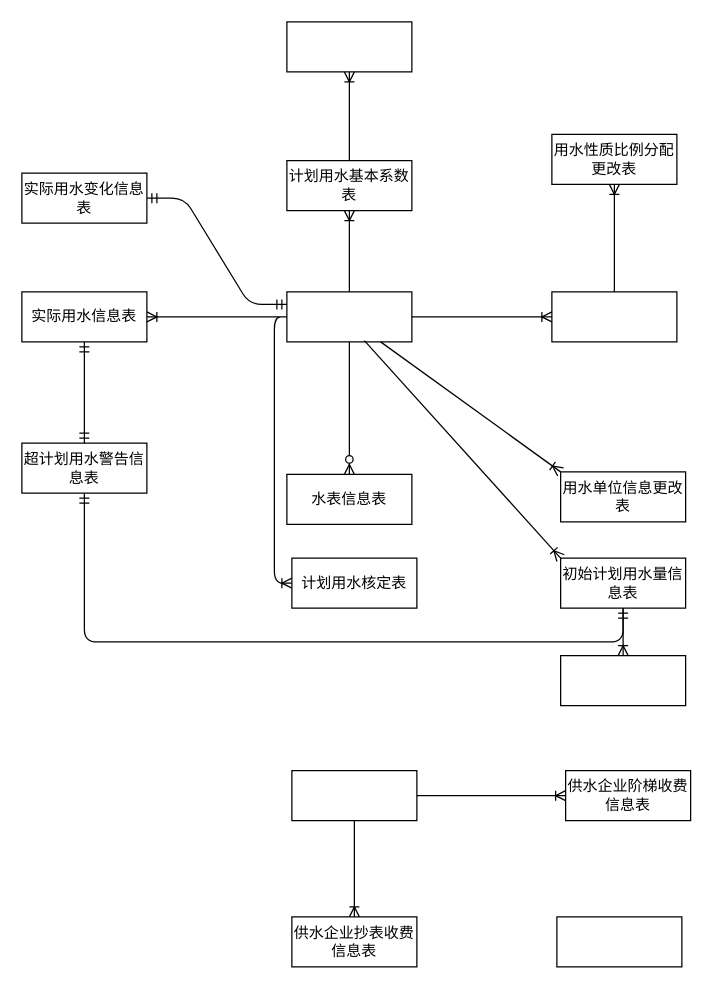
Image size: 713x989. Some labels were removed from this diagram. Here are the shapes that lost their labels. From the top down, the centre of each, then its label:
(349,46): 计划用水基本系数调整表
(349,316): 用水单位基本信息表
(614,316): 用水性质比例分配表
(622,680): 计划用水调整记录表
(354,795): 供水企业基本信息表
(619,941): 水厂信息表
